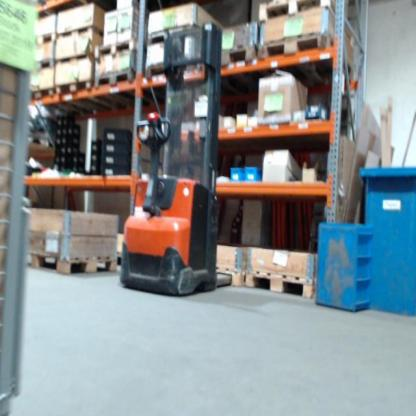pallet: (29, 249, 117, 276), (256, 32, 333, 61), (245, 270, 317, 298), (259, 0, 336, 22), (94, 37, 137, 59), (56, 22, 103, 42), (219, 46, 255, 68), (96, 67, 136, 86), (146, 24, 182, 44), (57, 78, 93, 95), (56, 50, 95, 65), (29, 86, 55, 103), (145, 63, 167, 79), (34, 57, 56, 71), (36, 32, 56, 46)
pallet_truck: (121, 20, 238, 300)
small_load_carrier: (101, 127, 133, 141), (101, 152, 133, 165), (102, 165, 133, 177), (101, 141, 133, 152), (245, 164, 260, 179), (229, 167, 244, 180)
stillage: (2, 1, 44, 414)
